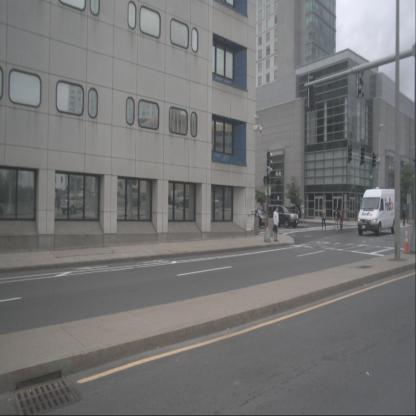human-pedestrian-adult: (272, 206, 279, 242), (338, 205, 344, 230), (321, 205, 326, 232), (334, 206, 339, 229), (402, 205, 406, 226)
movable_object-trafficcone: (402, 227, 411, 254)
vehicle-car: (357, 189, 397, 236), (266, 204, 299, 229), (240, 206, 269, 228), (60, 193, 85, 214), (279, 204, 302, 224), (171, 190, 190, 209), (202, 193, 220, 211), (124, 192, 141, 206)
